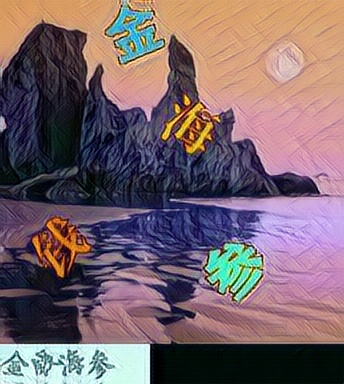B2CE: (202, 238, 262, 302)
BAA3: (158, 94, 218, 158)
BDF0: (102, 4, 162, 68)
C7AE: (29, 215, 89, 279)
